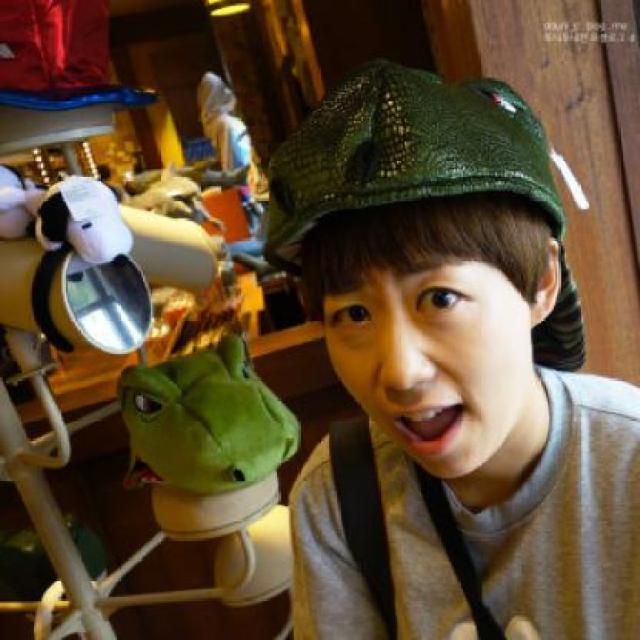hat: (266, 56, 566, 269)
